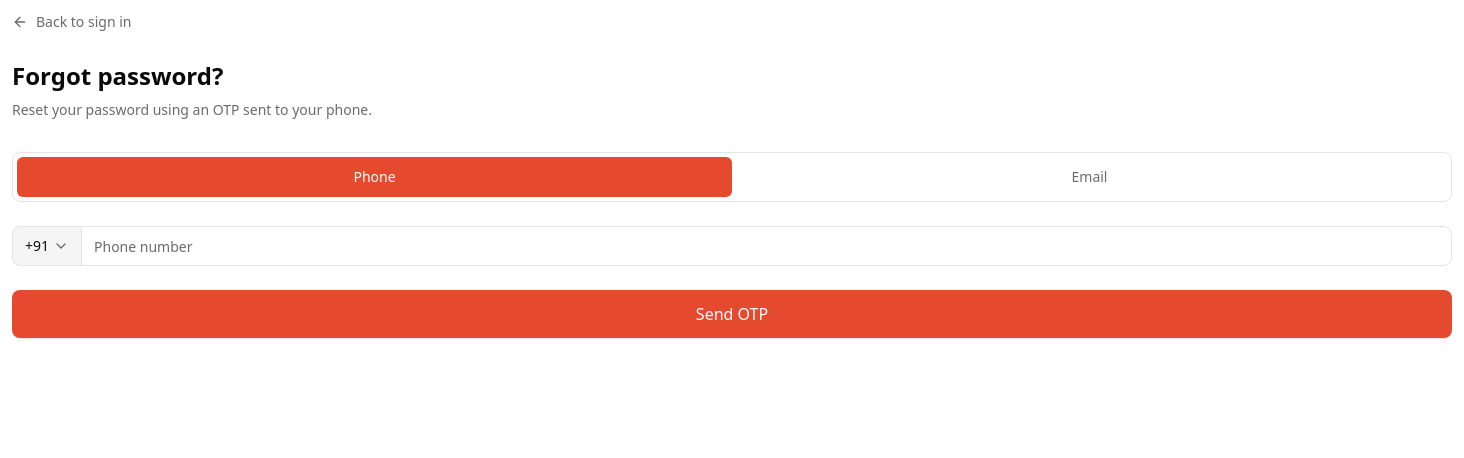
Scenario: ForgotPasswordPage account enumeration › sends the reset OTP only for an existing identifier
Click the tab "Email".
click(1090, 177)  # box [732,157,1447,197]
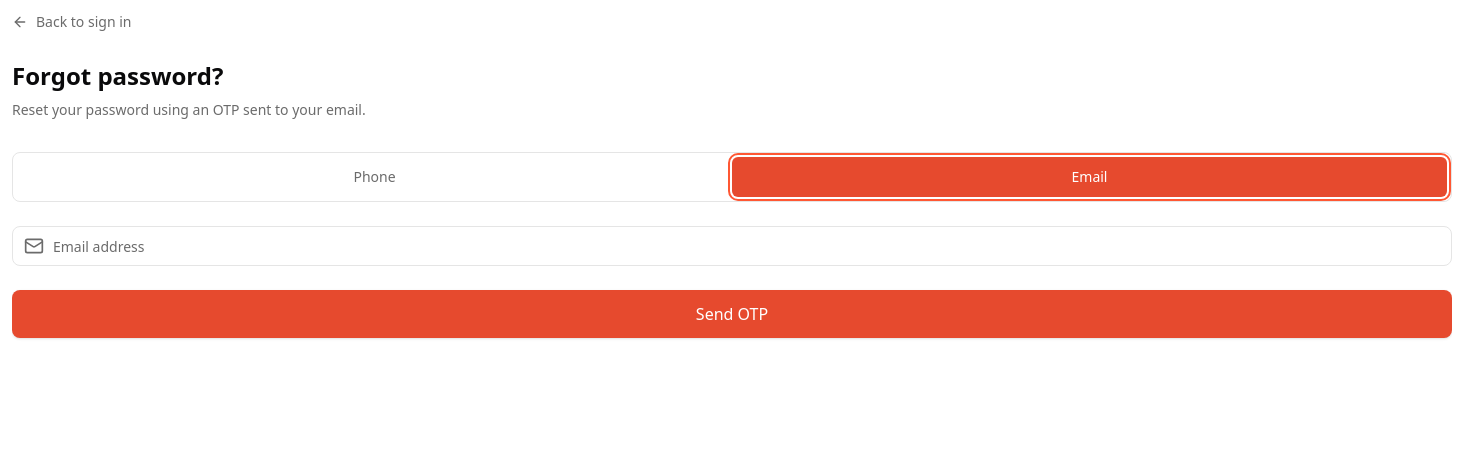
Type "existing@example.com" into the field labelled "Email address".
click(732, 246); type("existing@example.com")  # box [12,226,1452,266]
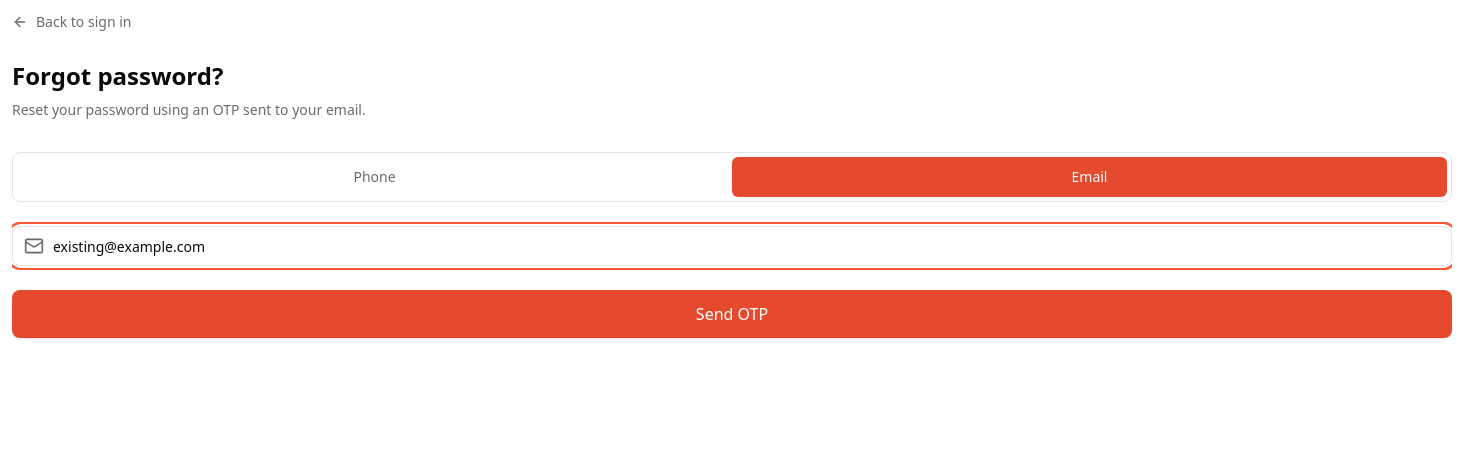
Click the button "Send OTP".
click(732, 314)  # box [12,290,1452,338]
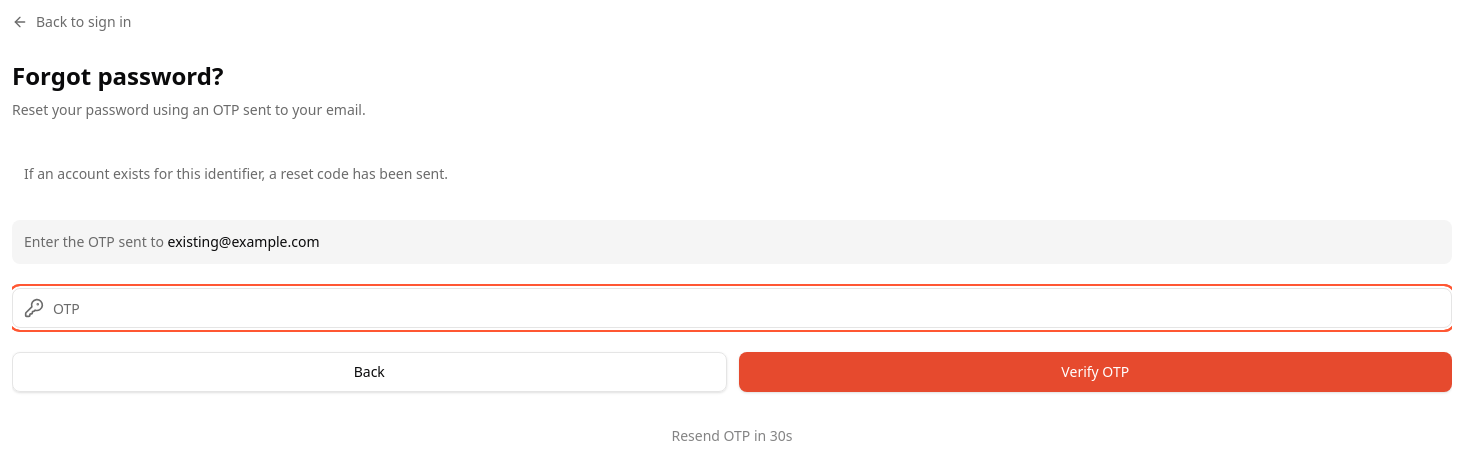
Expected: the text "Enter the OTP sent to existing@example.com" is shown, [12,220,1452,264]
